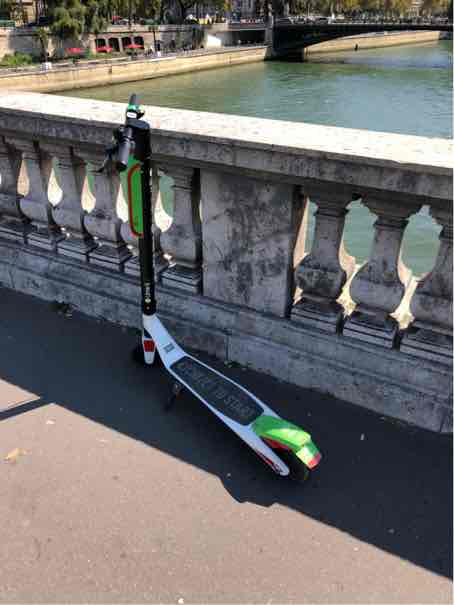scooter: (69, 92, 327, 488)
